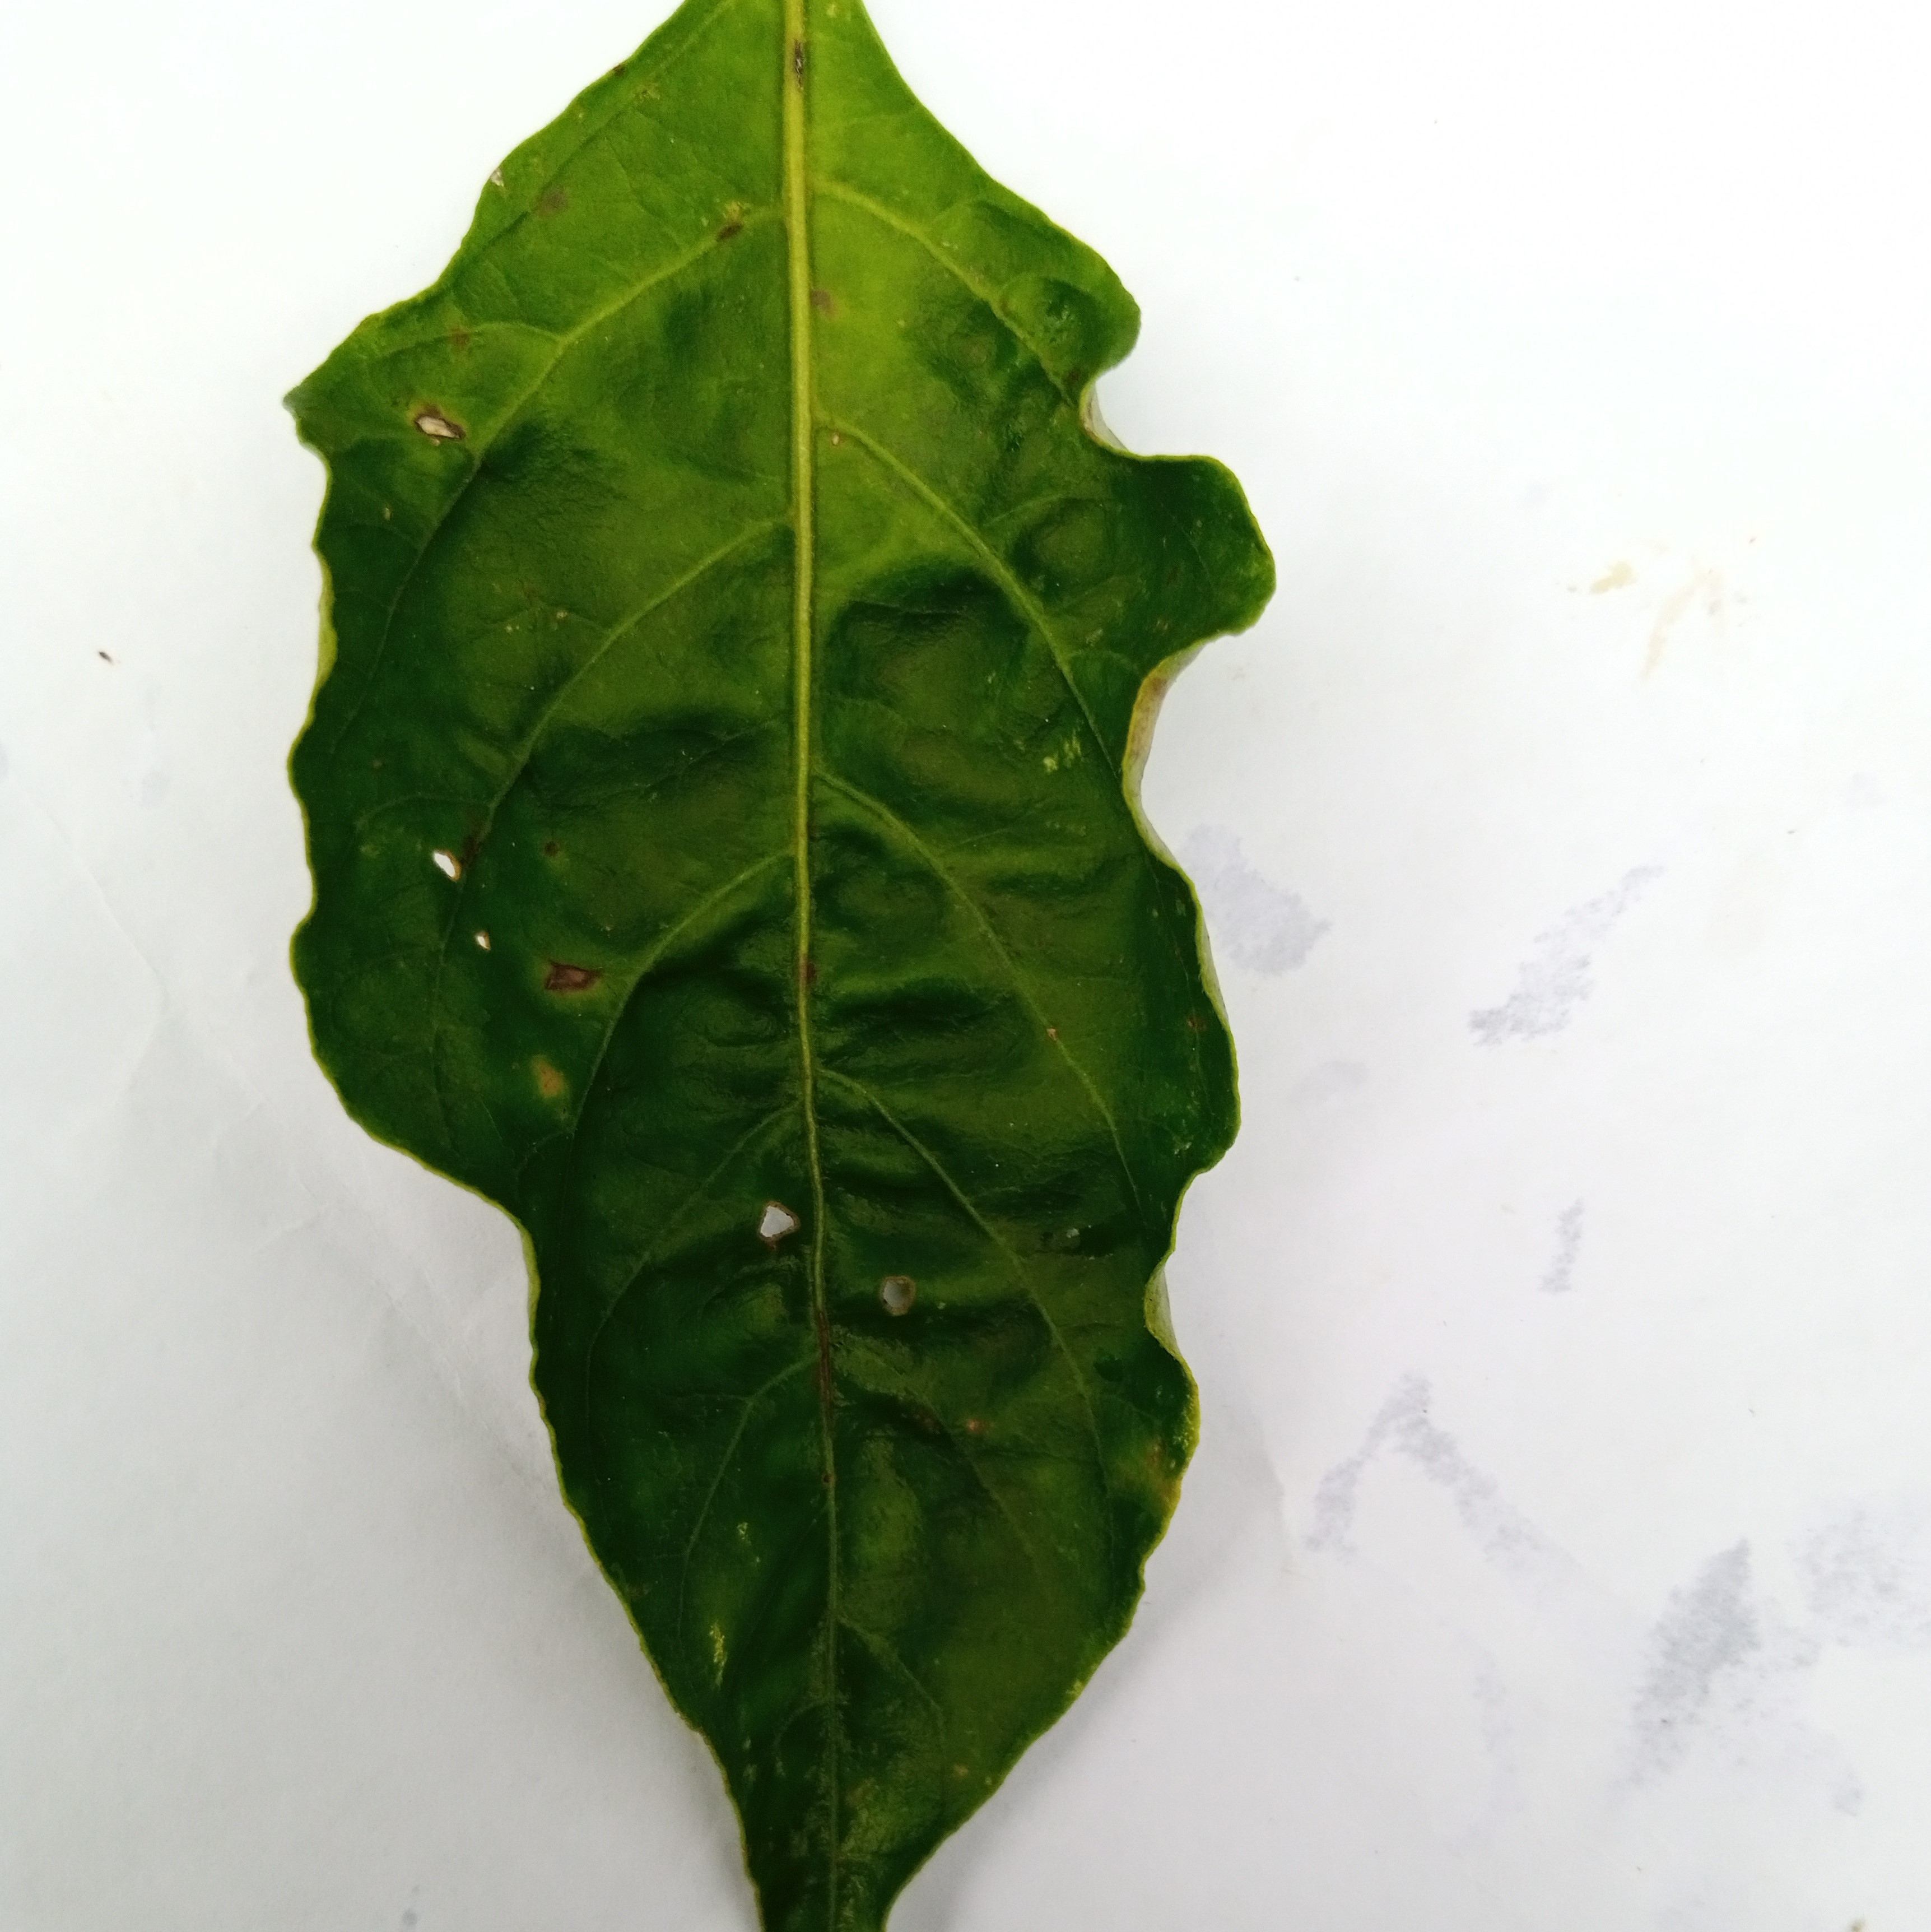Leaf: (219, 28, 1542, 1932)
